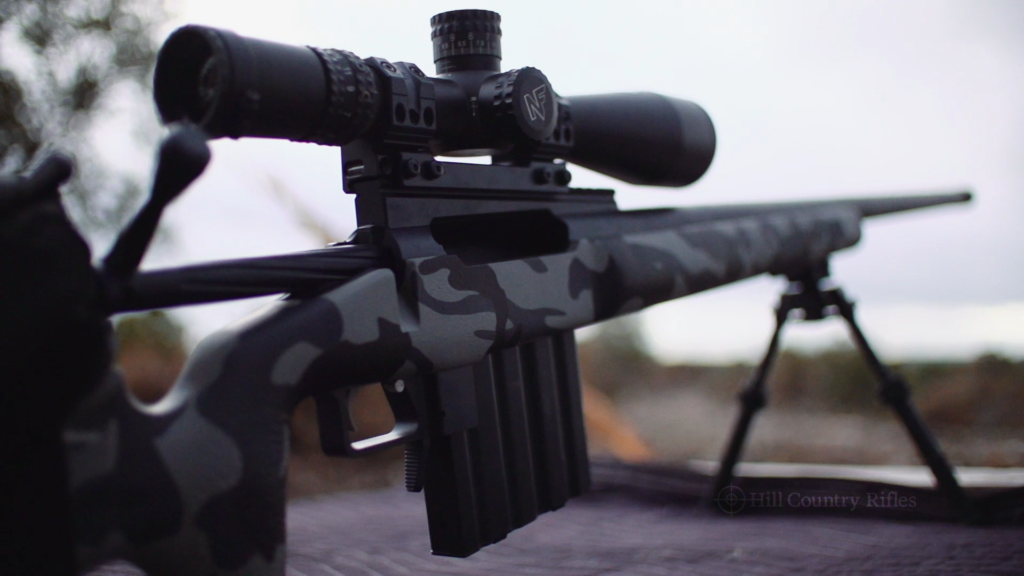Gun: (151, 2, 831, 473)
